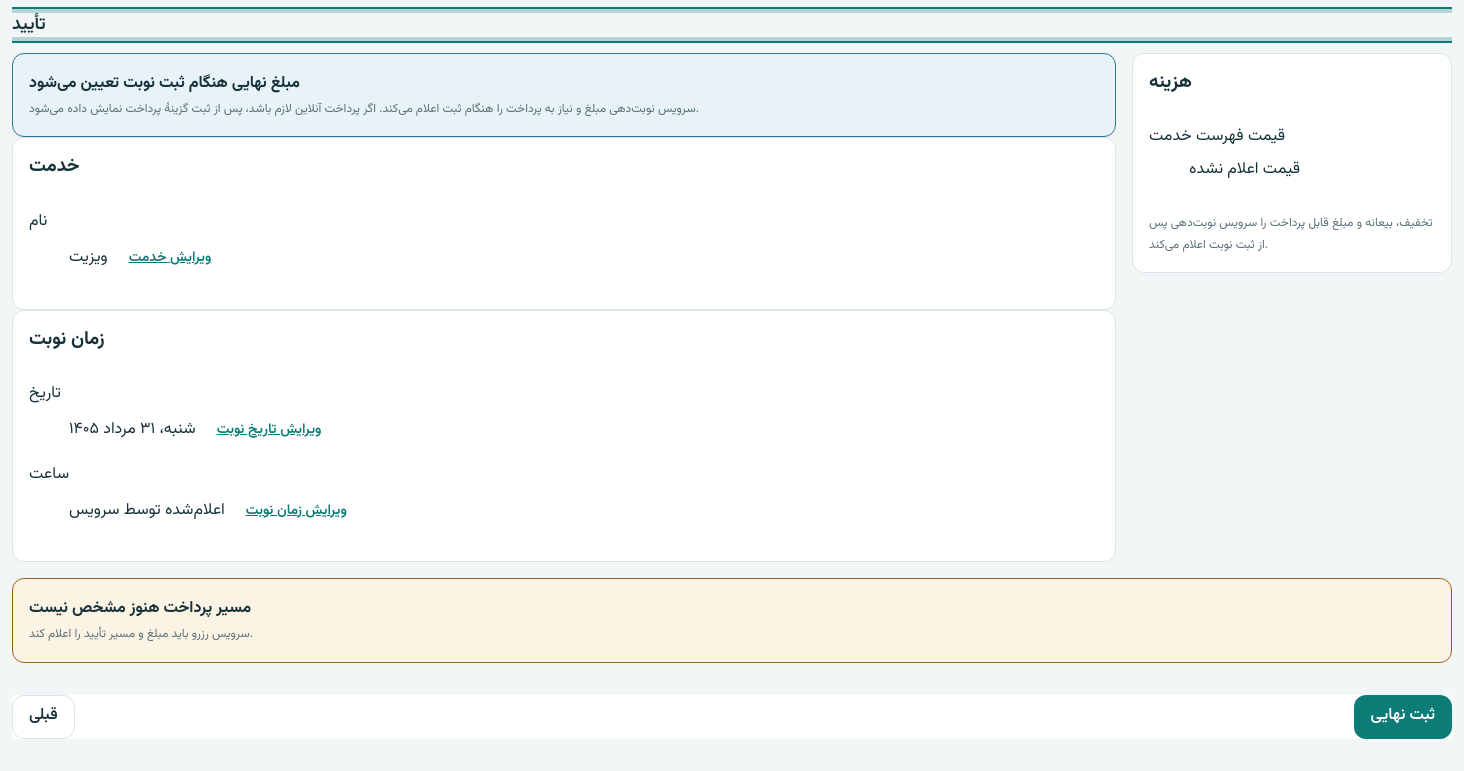
Test: checkout against the current Backend contract › with a branch, creates the appointment through POST /appointments/me without a quote or hold
The image size is (1464, 771).
(page scrolled)
Click the button "ثبت نهایی": point(1403, 717) [1354, 695, 1452, 739]
(page scrolled)
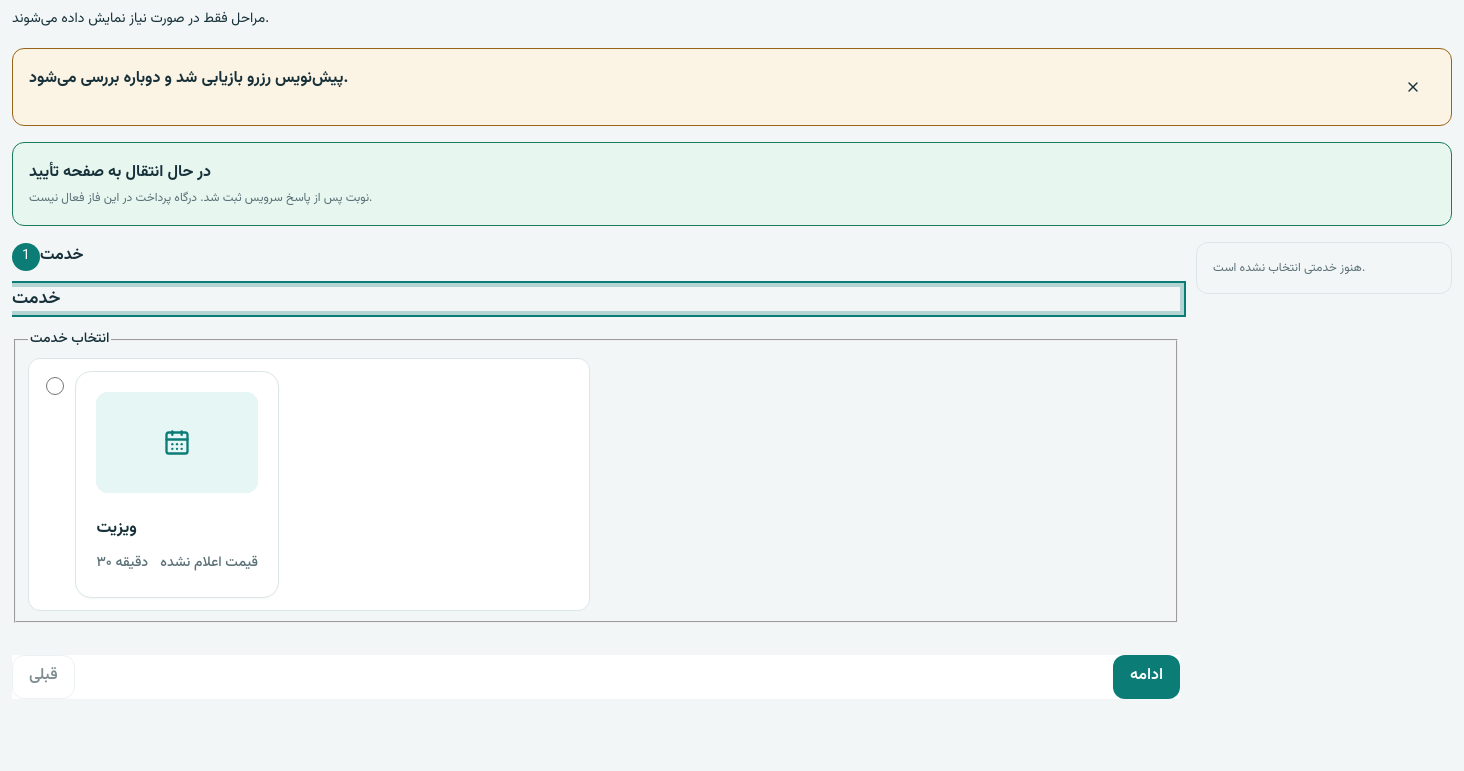
expect the text "در حال انتقال به صفحه تأیید" is shown: met, box [29, 160, 211, 185]
